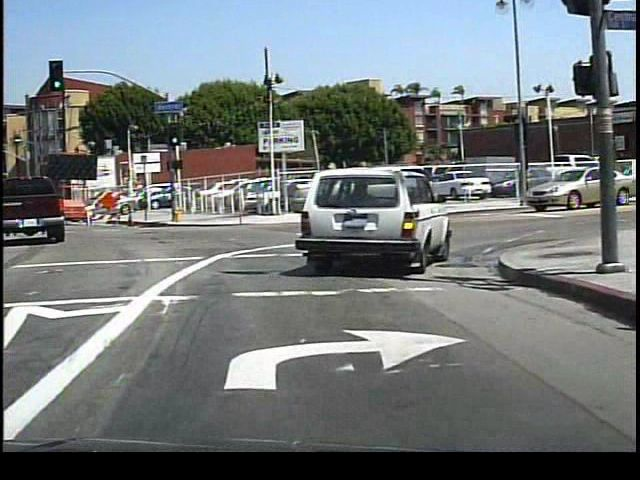person: (512, 162, 532, 205)
